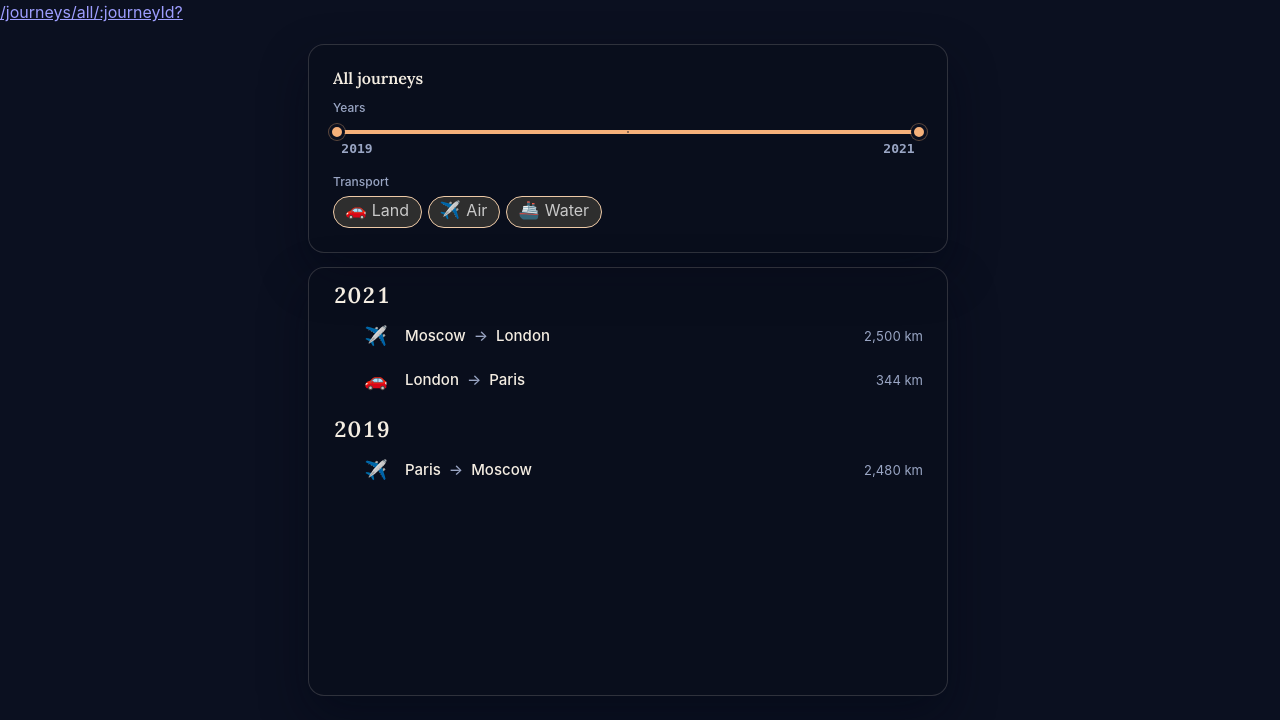
Test case: AllJourneysView — удаление из карточки поездки › «⋯» → «Delete journey» спрашивает подтверждение с маршрутом; «Cancel» ничего не удаляет
This screenshot has width=1280, height=720.
Click the link named "Moscow to London" at [435, 336], box [365,325,923,347]
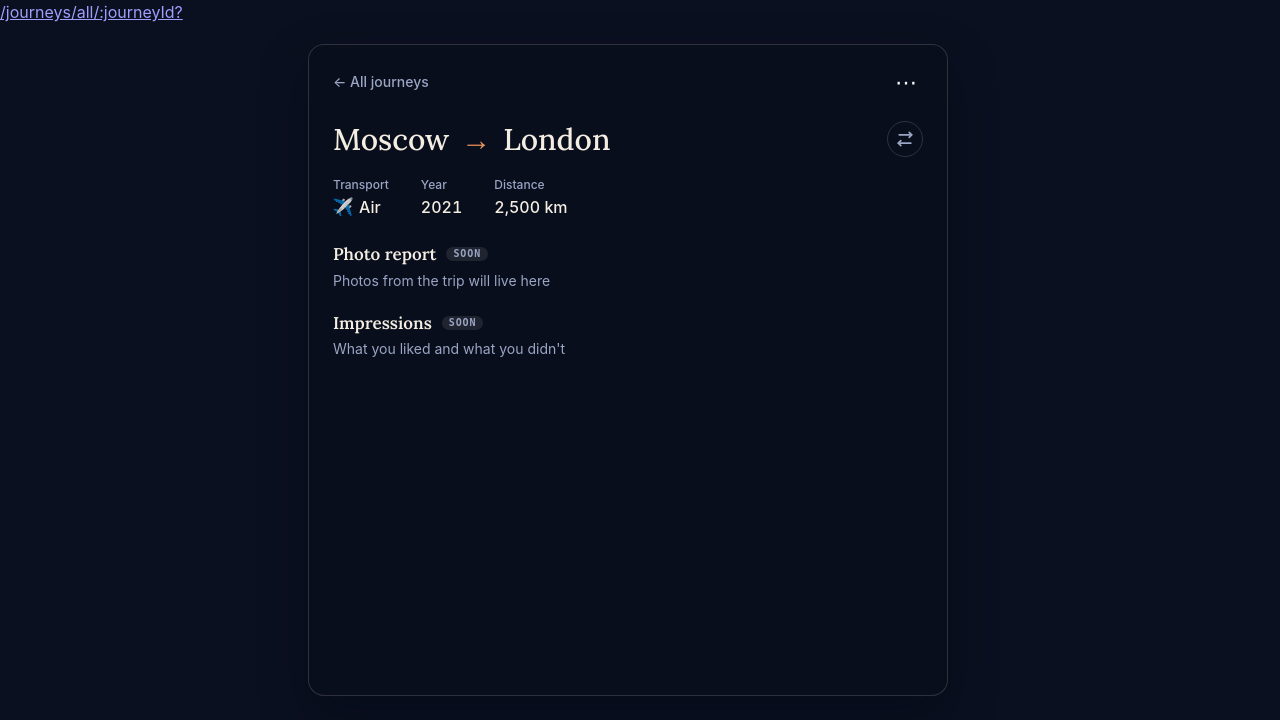
Check: the heading named "Moscow to London" is shown, box [327,119,616,175]
Click the button named "More actions" at [906, 82], box [889,65,923,99]
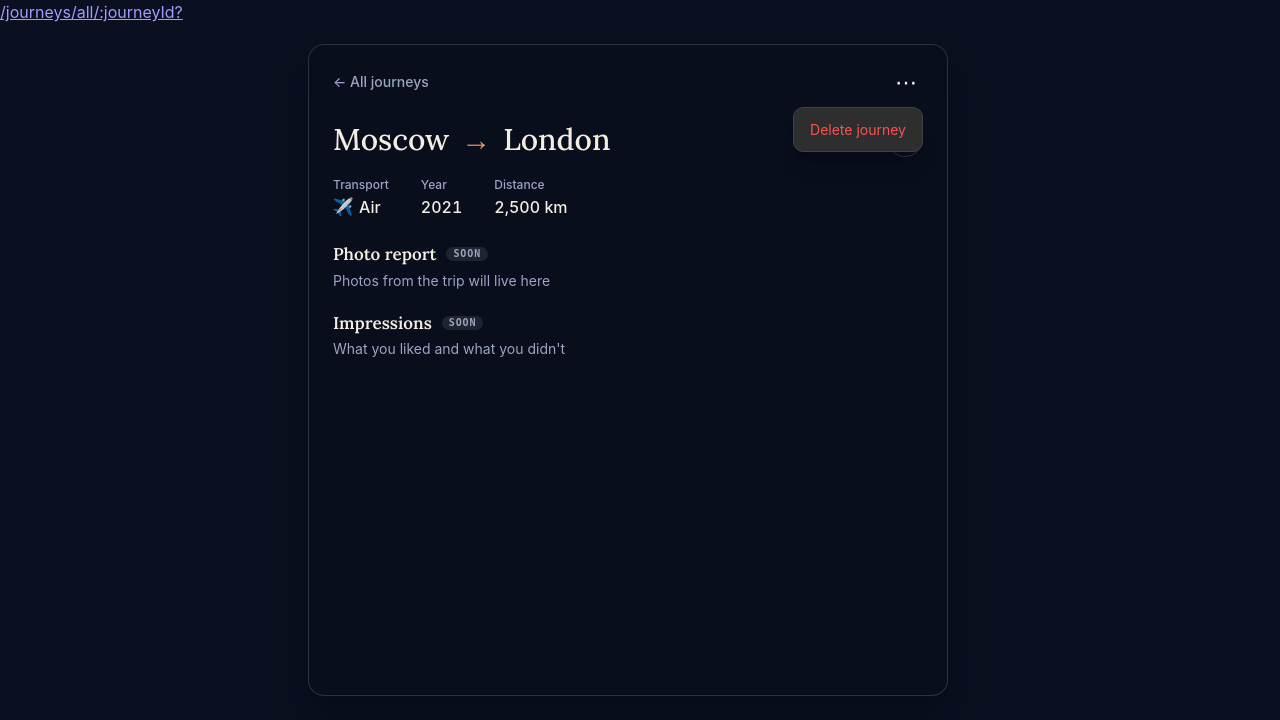
Click the menu item "Delete journey" at [858, 130], box [798,112,918,147]
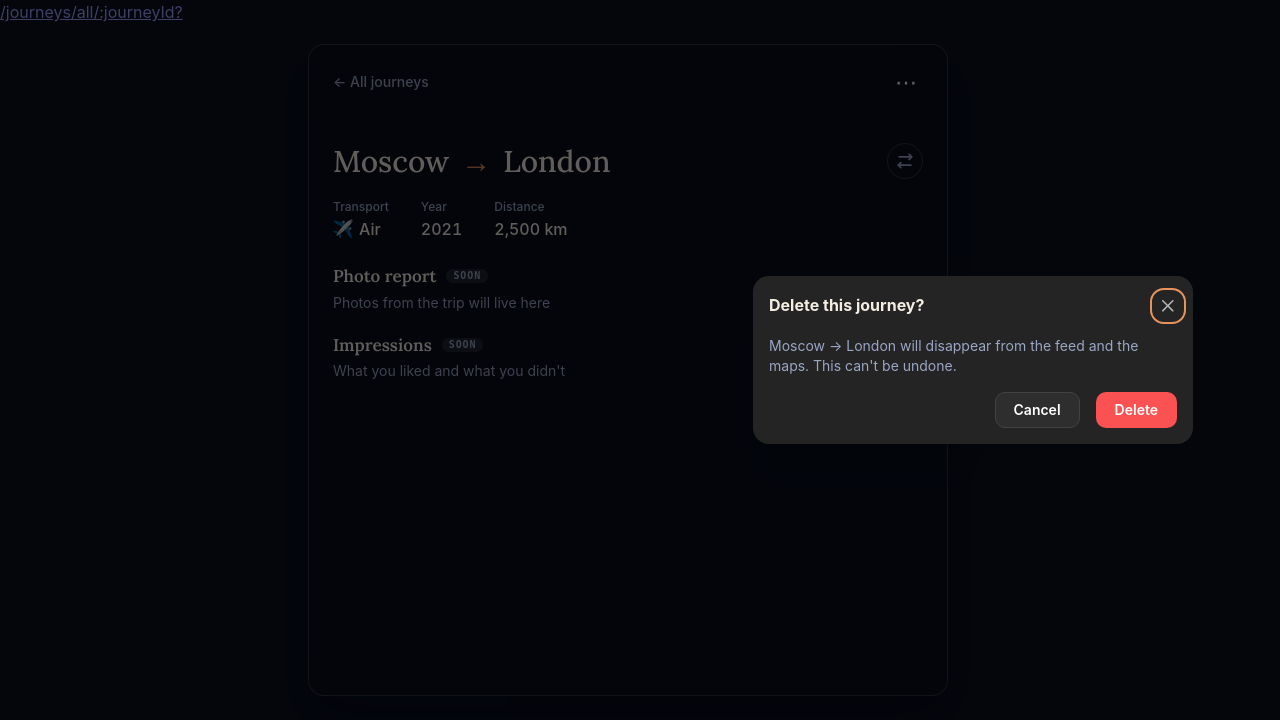
Check: the text "Moscow → London will disappear" is shown, box [769,337,1138,374]
Click the button "Cancel" at [1037, 410], box [994,392,1080,428]
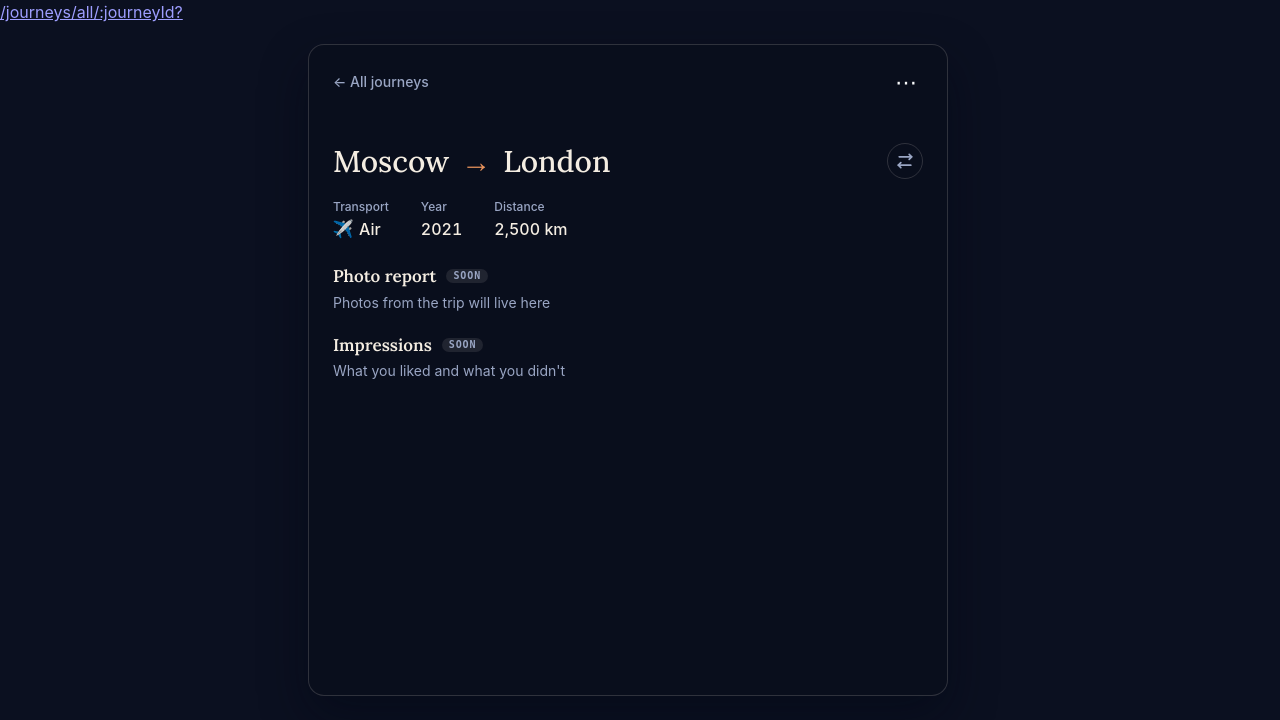
Check: the heading named "Moscow to London" is shown, box [327,141,616,197]
Check: the dialog is gone
